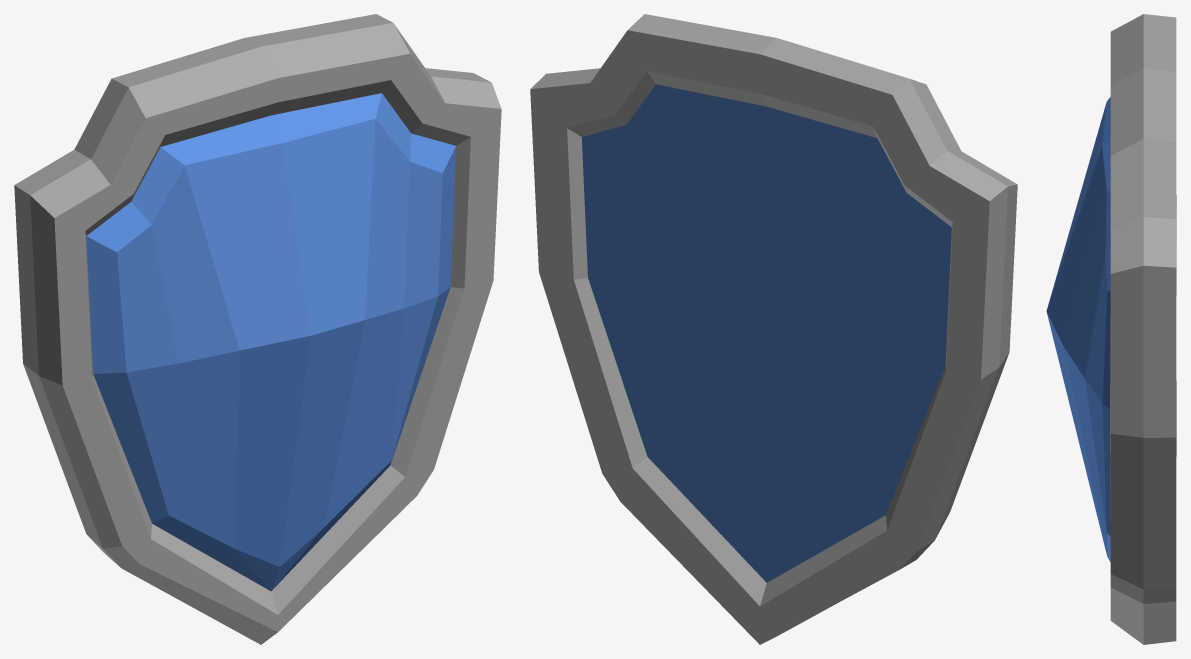
File: Shield.fbx
3 views of the same model, side by side, from view 1: azimuth 30°, elevation 25°; view 2: azimuth 150°, elevation 25°; view 3: azimuth 270°, elevation 25° (orthographic). The views are drawn at different scales.
Parts seen in each view (by area): view 1: Shield; view 2: Shield; view 3: Shield.
Boxes of the visible parts, left/top/right/bottom form: Shield: left=14, top=14, right=501, bottom=644; Shield: left=530, top=14, right=1017, bottom=644; Shield: left=1046, top=14, right=1176, bottom=644.
Bounding box in the file's own units: 1.56 × 1.93 × 0.3953.
